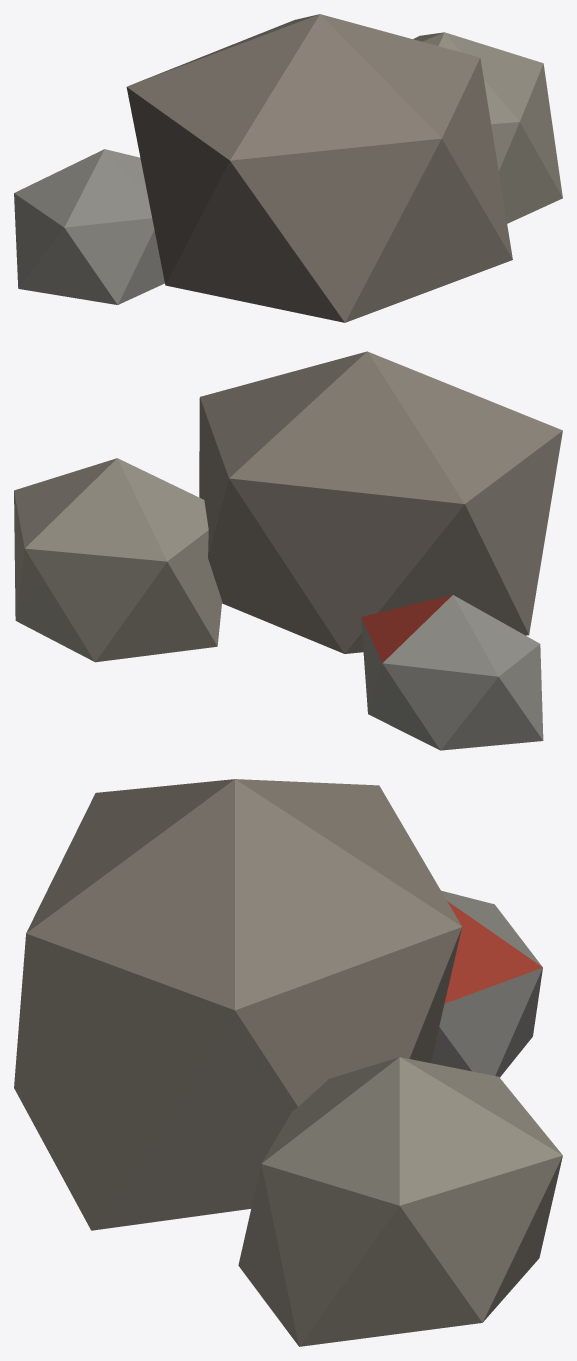
The model's file is Sea_Rocks.glb.
3 views of the same model, one above another, from view 1: azimuth 30°, elevation 25°; view 2: azimuth 150°, elevation 25°; view 3: azimuth 270°, elevation 25° (orthographic). The views are drawn at different scales.
Parts seen in each view (by area): view 1: Sea_Rocks; view 2: Sea_Rocks; view 3: Sea_Rocks.
Boxes of the visible parts, left/top/right/bottom form: Sea_Rocks: left=14, top=14, right=562, bottom=322; Sea_Rocks: left=14, top=351, right=562, bottom=750; Sea_Rocks: left=14, top=779, right=562, bottom=1346.
Size of the model in its own units: 1.56 by 0.8111 by 0.9998.
Materials: 1 (1 with a texture image).
